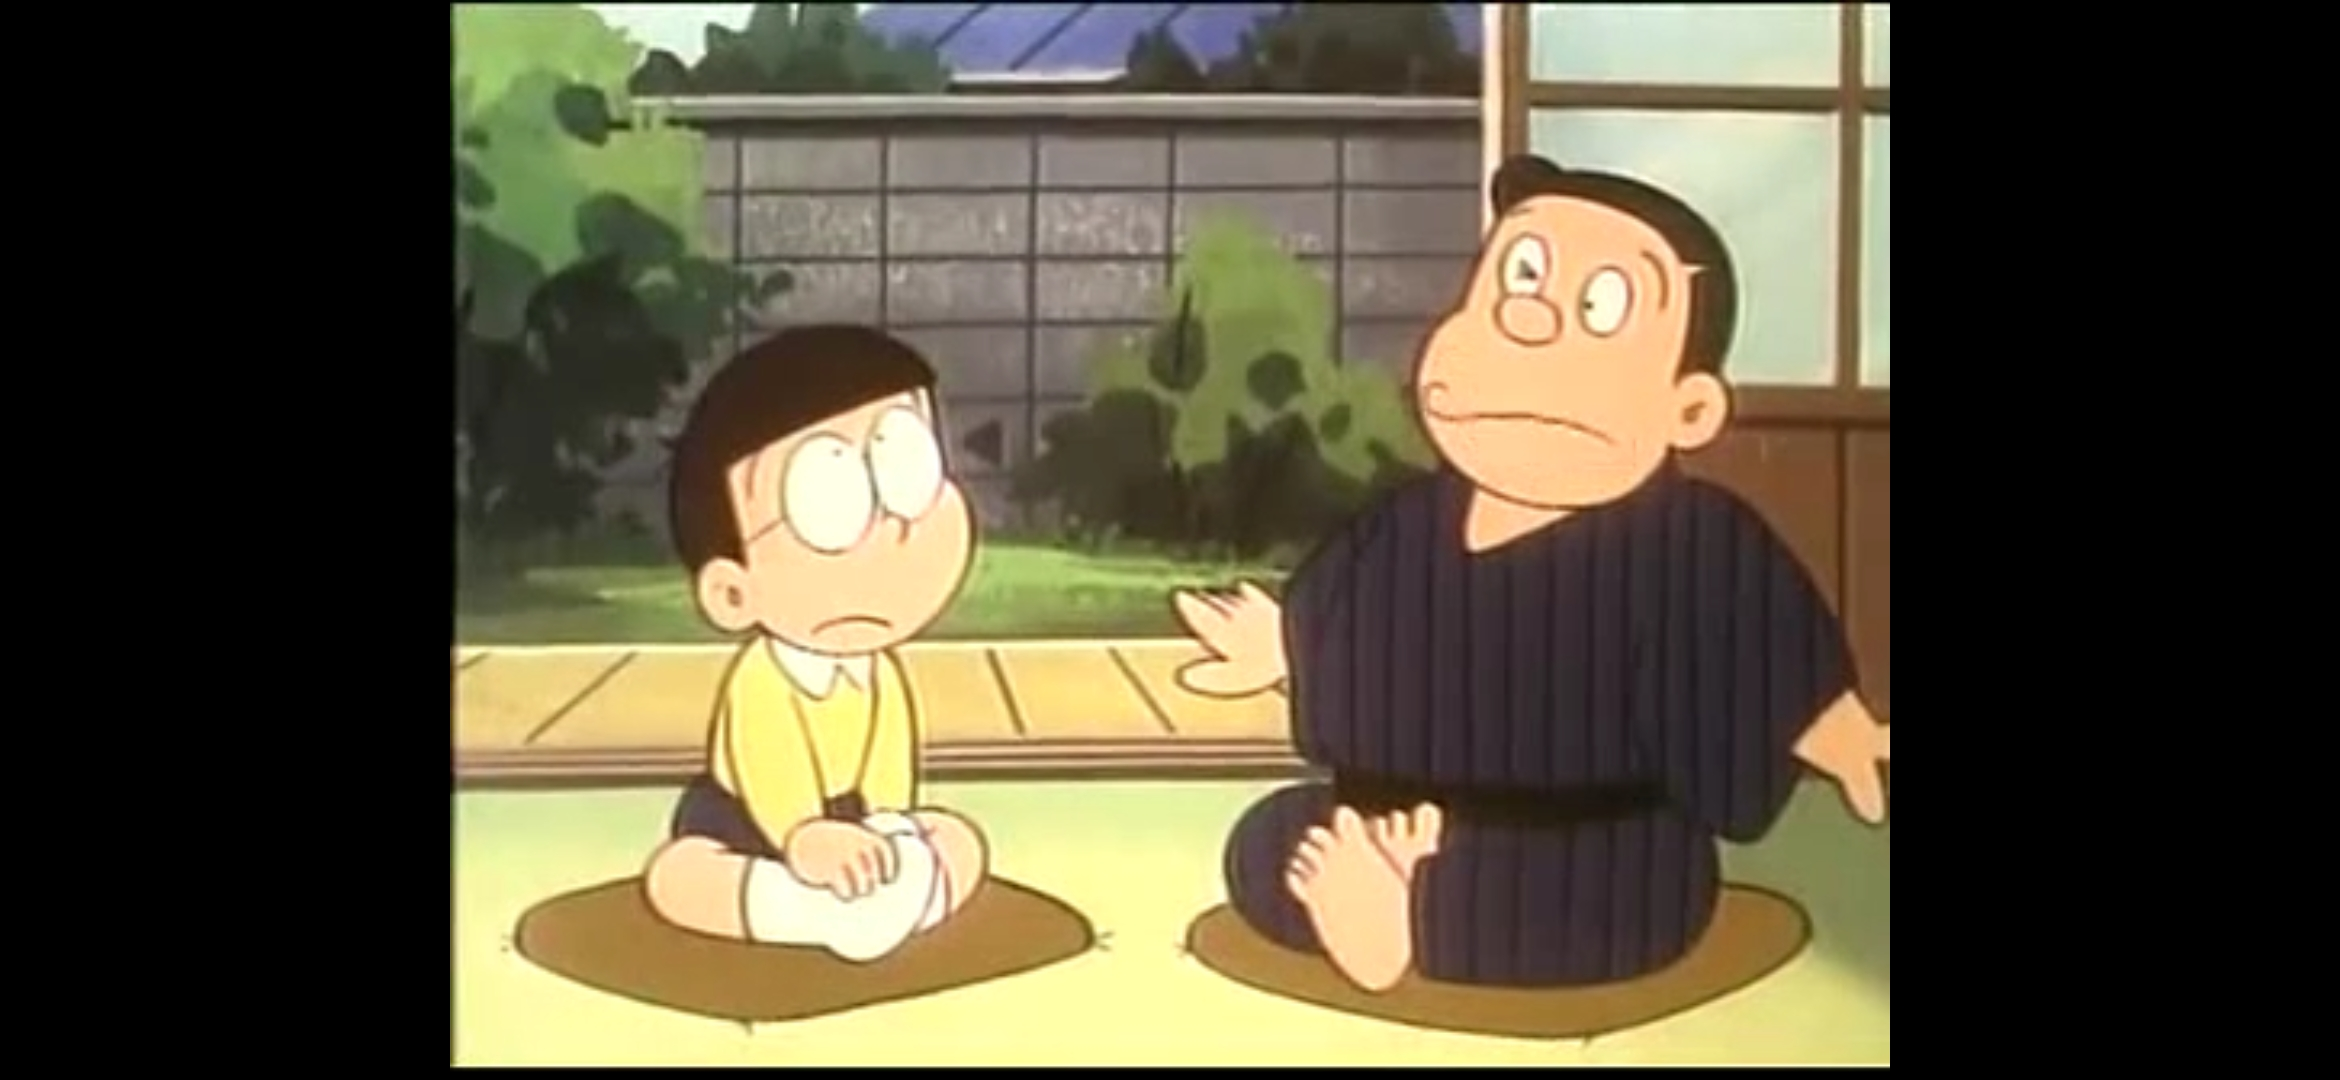Nobi: (667, 324, 969, 650)
